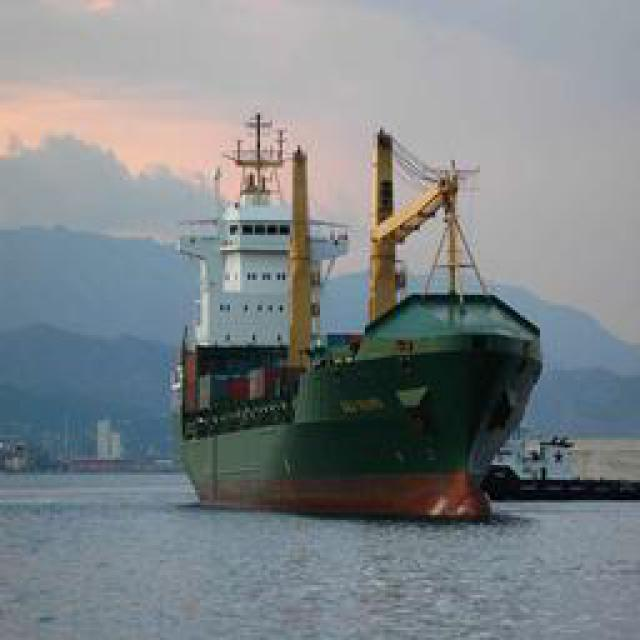Ship: (173, 111, 541, 521)
